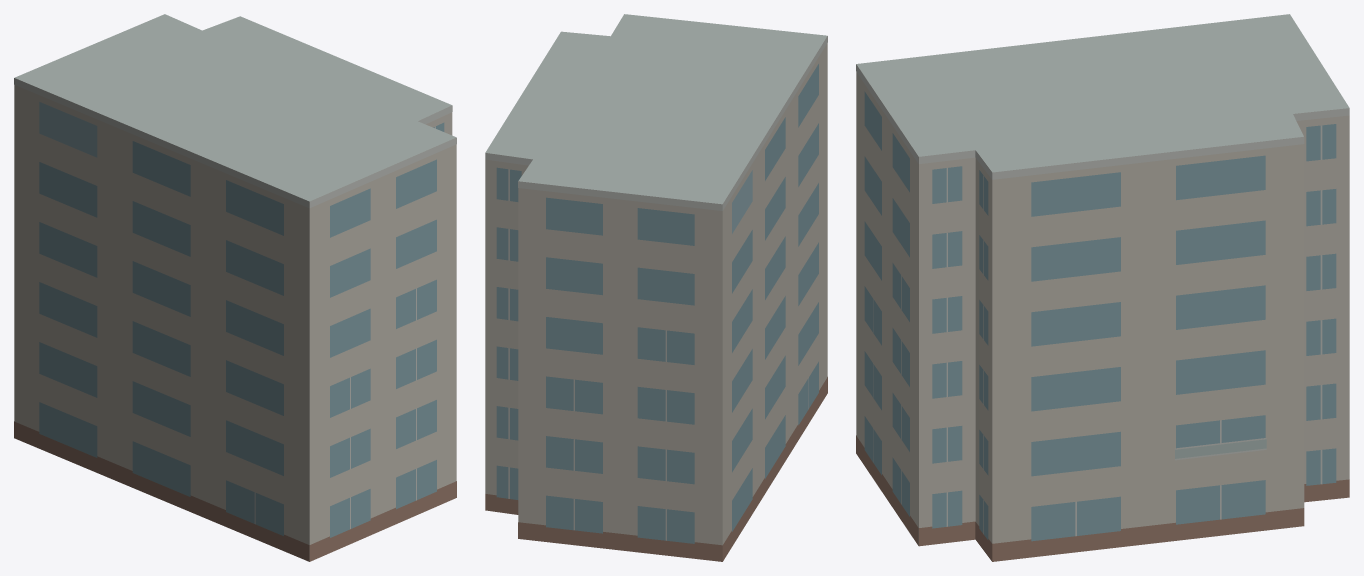
File: survey-upis-33001210.glb
3 renders of one model, left to right at view 1: azimuth 30°, elevation 25°; view 2: azimuth 150°, elevation 25°; view 3: azimuth 270°, elevation 25°, orthographic. The views are drawn at different scales.
Visible parts, largest first — view 1: survey-upis-33001210.tmp; view 2: survey-upis-33001210.tmp; view 3: survey-upis-33001210.tmp.
Boxes of the visible parts, x1,y1,x2,y2 form: survey-upis-33001210.tmp: [14, 14, 456, 561]; survey-upis-33001210.tmp: [485, 14, 827, 561]; survey-upis-33001210.tmp: [856, 14, 1349, 561].
Bounding box in the file's own units: 11.27 × 12.9 × 14.83.
